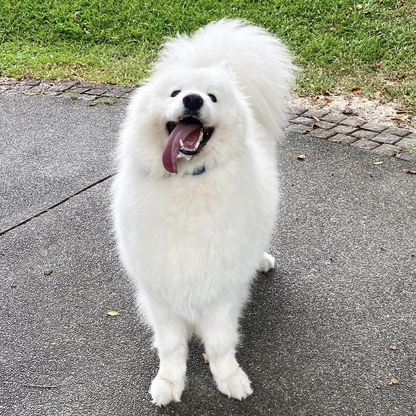samoyed: (101, 12, 304, 410)
